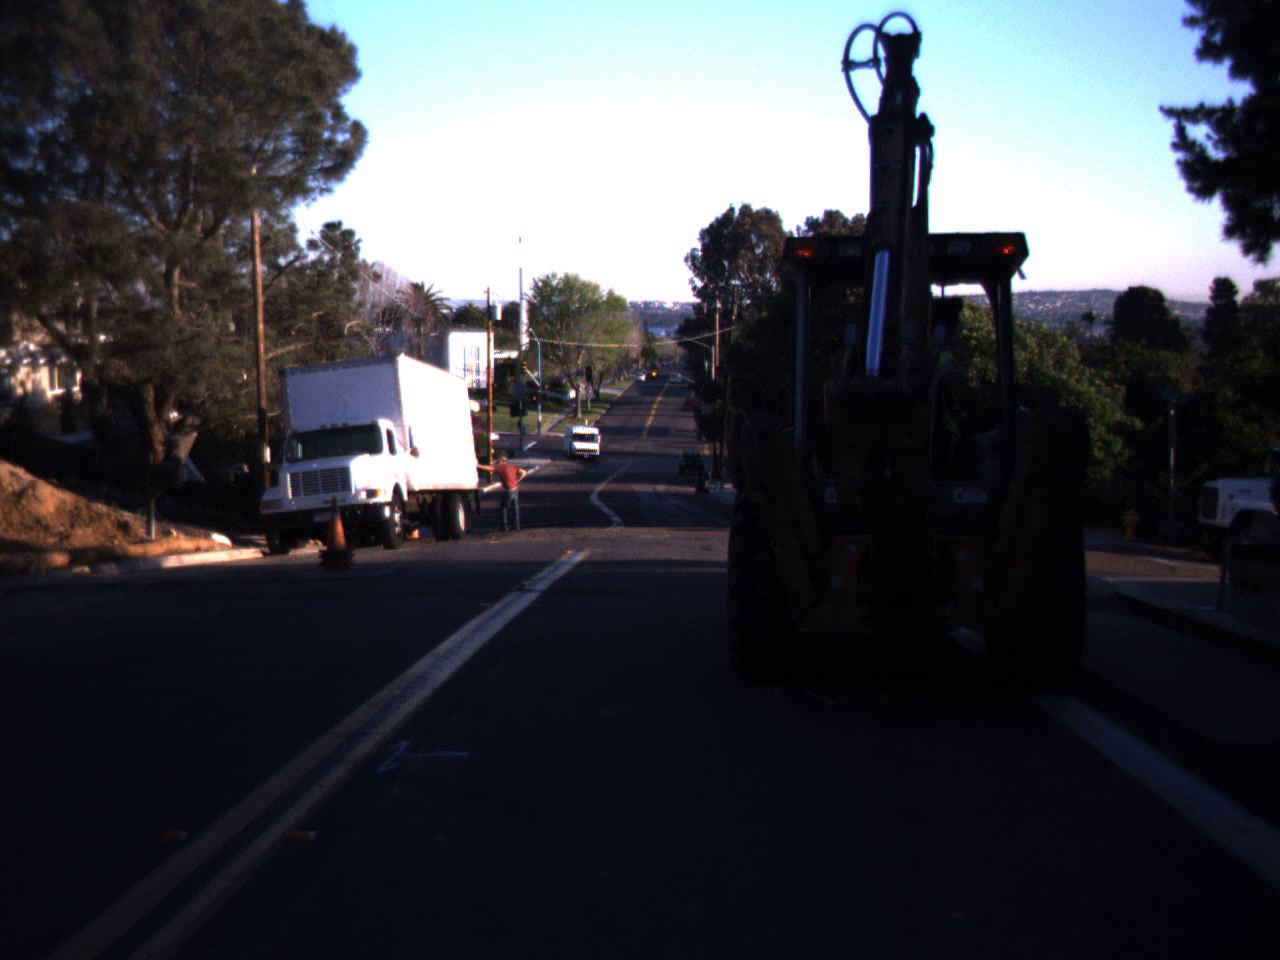warning: (648, 364, 660, 382)
